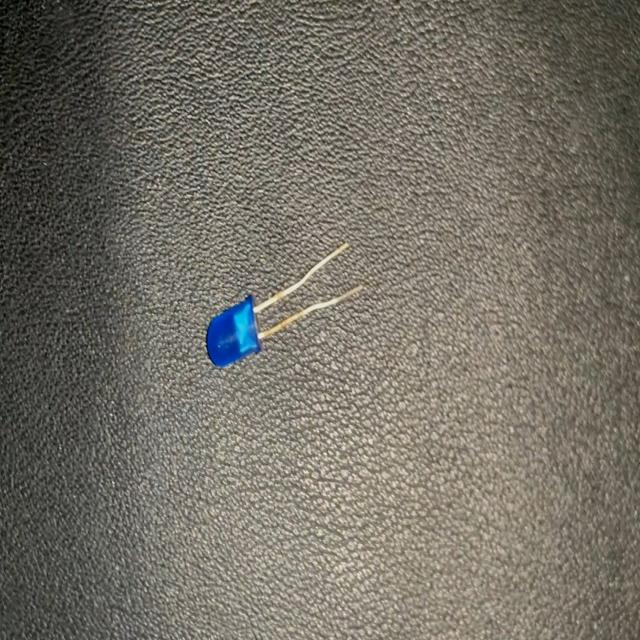LED: (206, 236, 363, 371)
